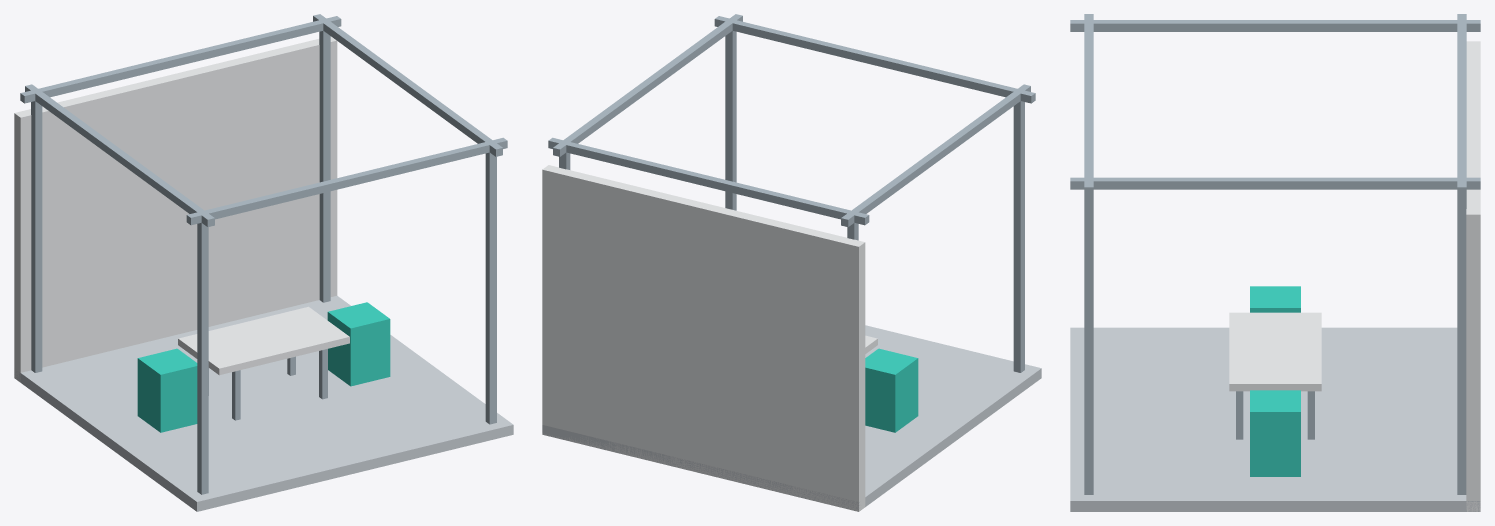
The picture shows the model from 3 angles, left to right: view 1: azimuth 30°, elevation 25°; view 2: azimuth 150°, elevation 25°; view 3: azimuth 270°, elevation 25°; orthographic projection. The views are drawn at different scales.
Parts seen in each view (by area): view 1: Exhibition Booth Concept; view 2: Exhibition Booth Concept; view 3: Exhibition Booth Concept.
Boxes of the visible parts, x1,y1,x2,y2 form: Exhibition Booth Concept: (14, 14, 513, 511); Exhibition Booth Concept: (542, 14, 1041, 511); Exhibition Booth Concept: (1070, 14, 1480, 511).
Size of the model in its own units: 4 by 3.49 by 4.
